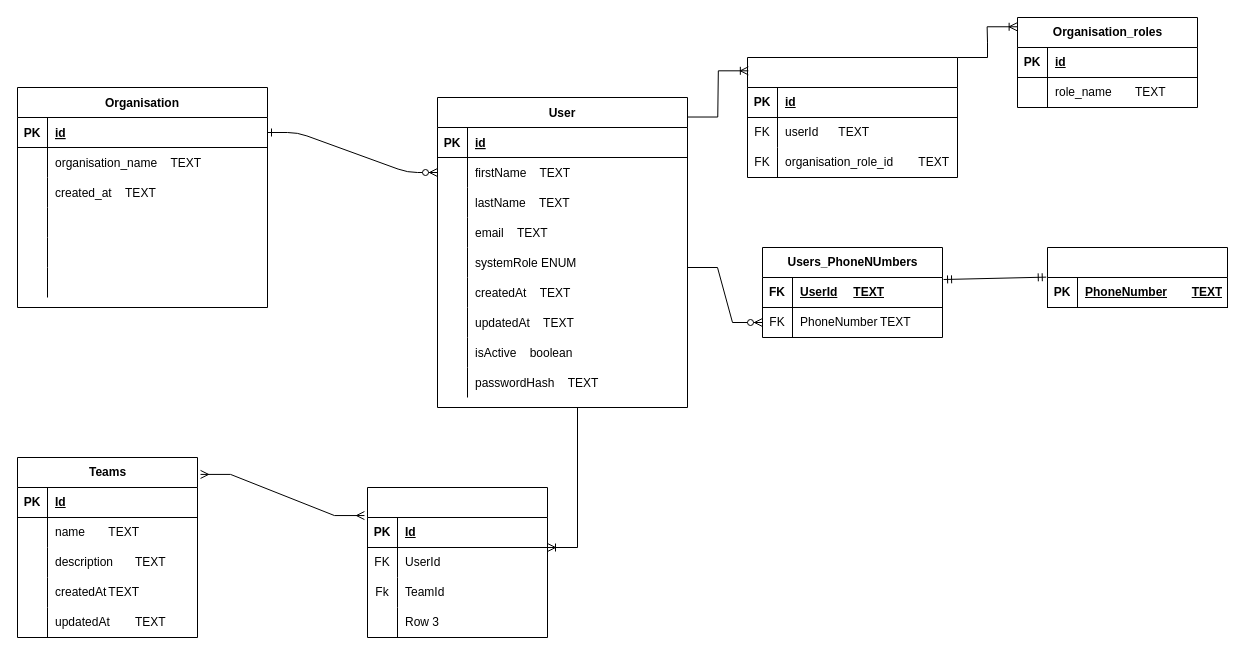
This 1245x655 diagram has some shape labels left out. Here are the shapes that lost their labels. From the top down, the box of each, then its label:
(746, 56, 958, 178): Users_Organisation_roles
(1046, 246, 1228, 308): PhoneNumbers
(366, 486, 548, 638): Users_Teams
